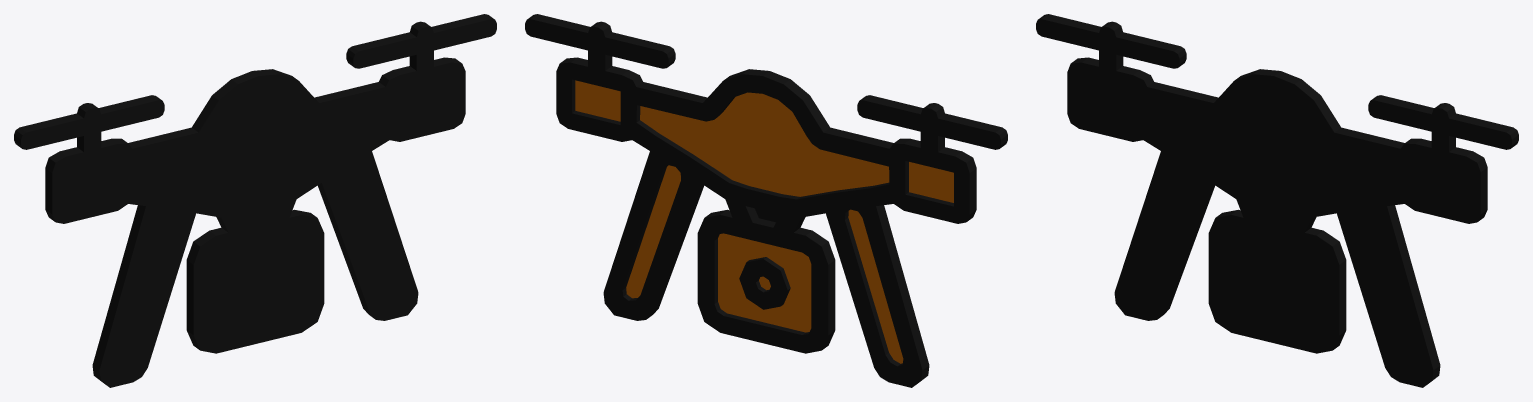
The model's file is 2024_content_creator.obj.
3 views of the same model, side by side, from view 1: azimuth 30°, elevation 25°; view 2: azimuth 150°, elevation 25°; view 3: azimuth 330°, elevation 25° (orthographic).
Visible parts, largest first — view 1: 0; view 2: 0, 1; view 3: 0.
Part boxes in pixels (left/top/right/bottom): 0: left=14, top=14, right=496, bottom=387; 0: left=525, top=14, right=1007, bottom=387; 1: left=575, top=80, right=953, bottom=363; 0: left=1036, top=14, right=1518, bottom=387.
Bounding box in the file's own units: 0.102 × 0.0581 × 0.00259.
